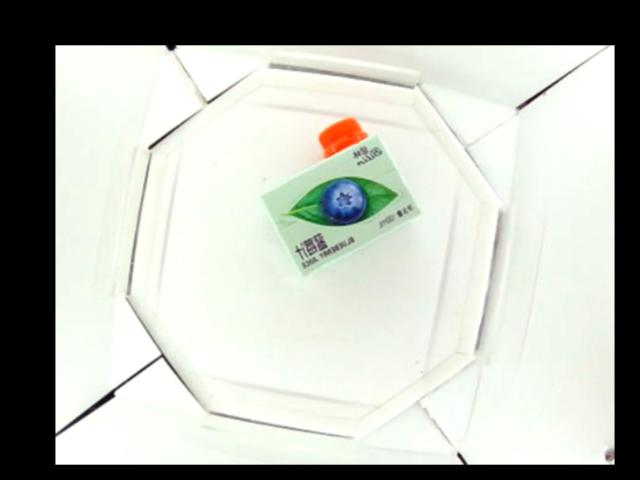Bottle: (259, 116, 418, 275)
